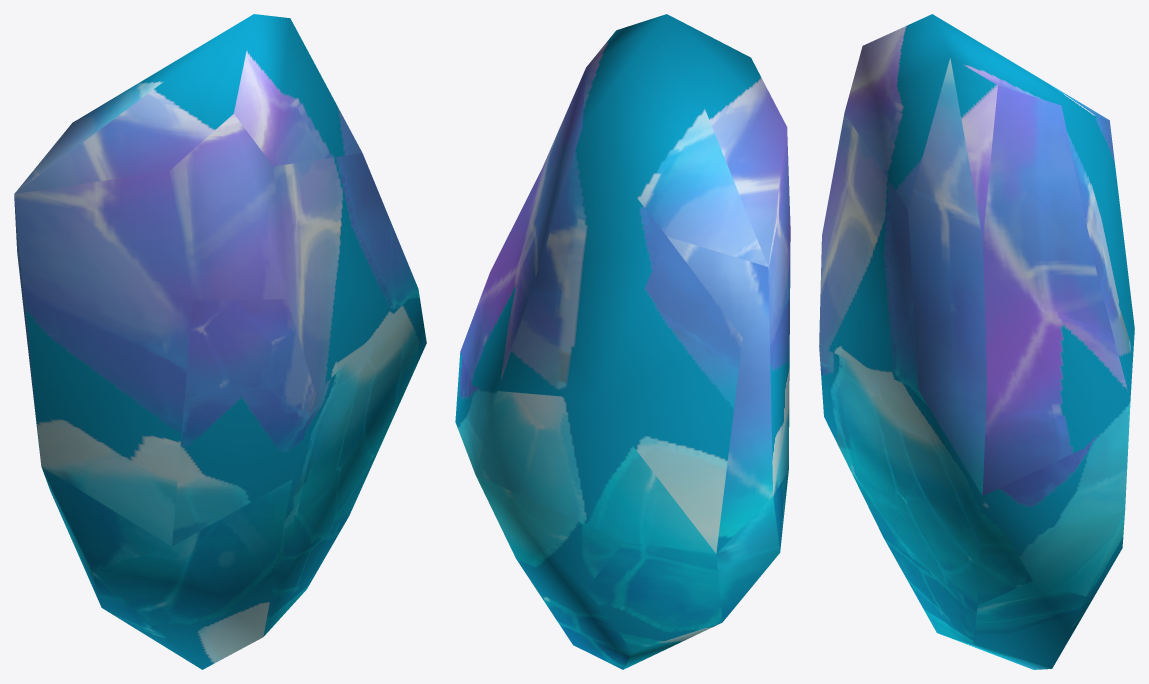
Rendered from fx_mmber_test.fbx.
3 views of the same model, side by side, from view 1: azimuth 30°, elevation 25°; view 2: azimuth 150°, elevation 25°; view 3: azimuth 270°, elevation 25° (orthographic). The views are drawn at different scales.
Visible parts, largest first — view 1: Snake_crystal_01; view 2: Snake_crystal_01; view 3: Snake_crystal_01.
Boxes of the visible parts, x1,y1,x2,y2 form: Snake_crystal_01: (14, 14, 426, 669); Snake_crystal_01: (455, 14, 790, 669); Snake_crystal_01: (819, 14, 1134, 669).
Size of the model in its own units: 50.11 by 86.29 by 37.52.
